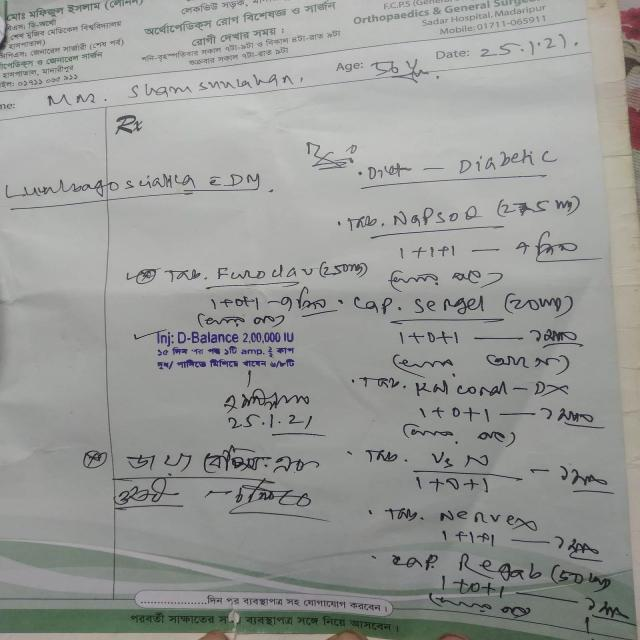medicine: (410, 376, 578, 402), (431, 502, 547, 534), (454, 548, 548, 586), (386, 204, 486, 228), (412, 294, 489, 318)
